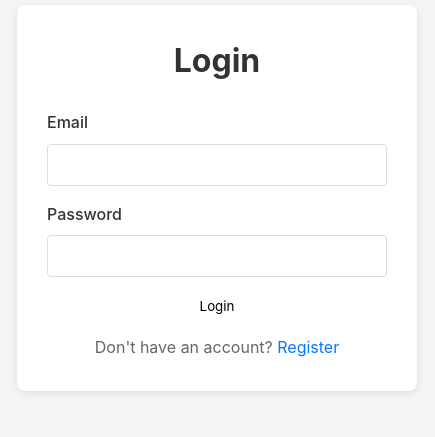
LoginPage › should show validation error when password is empty
Type "test@example.com" into the field labelled "Email".
click(217, 165); type("test@example.com")  # box [47,144,387,186]
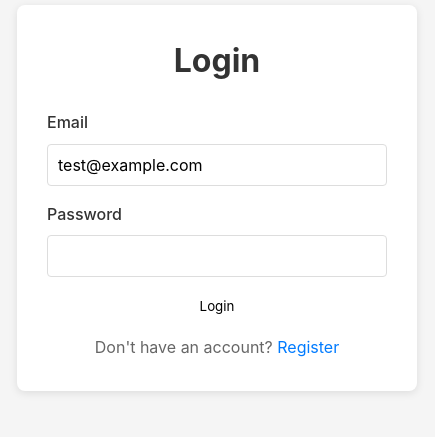
Click the button "Login".
click(217, 306)  # box [47,298,387,314]
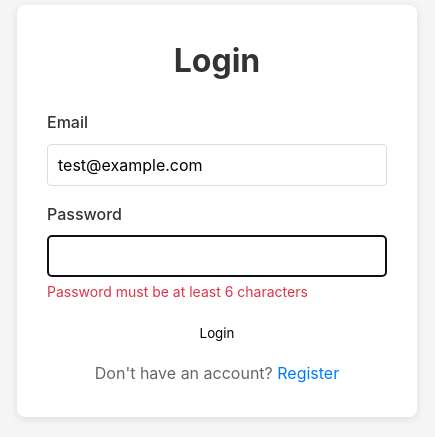
expect the text "Password must be at least 6 characters" is shown: met, box [47,283,308,300]
